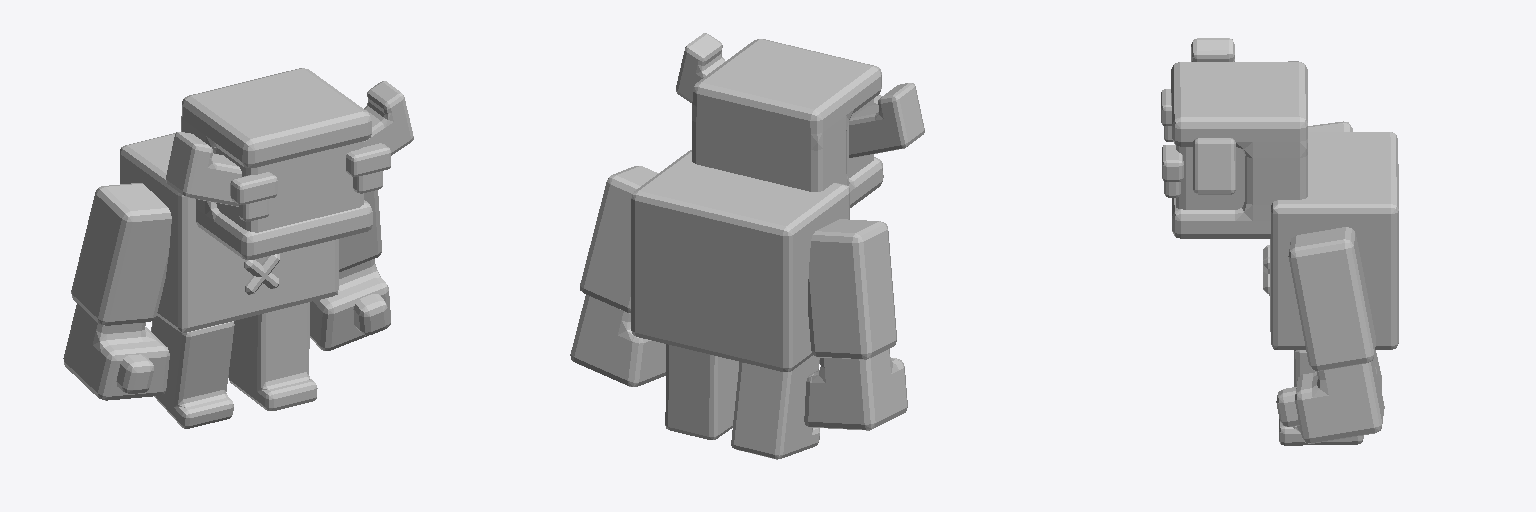
The model's file is Yeti.obj.
3 views of the same model, side by side, from view 1: azimuth 30°, elevation 25°; view 2: azimuth 150°, elevation 25°; view 3: azimuth 270°, elevation 25° (orthographic).
Visible parts, largest first — view 1: Yeti_Cube.187; view 2: Yeti_Cube.187; view 3: Yeti_Cube.187.
Boxes of the visible parts, x1,y1,x2,y2 form: Yeti_Cube.187: [63, 68, 413, 428]; Yeti_Cube.187: [570, 33, 924, 459]; Yeti_Cube.187: [1161, 38, 1398, 445].
Size of the model in its own units: 3 by 3.21 by 2.07.